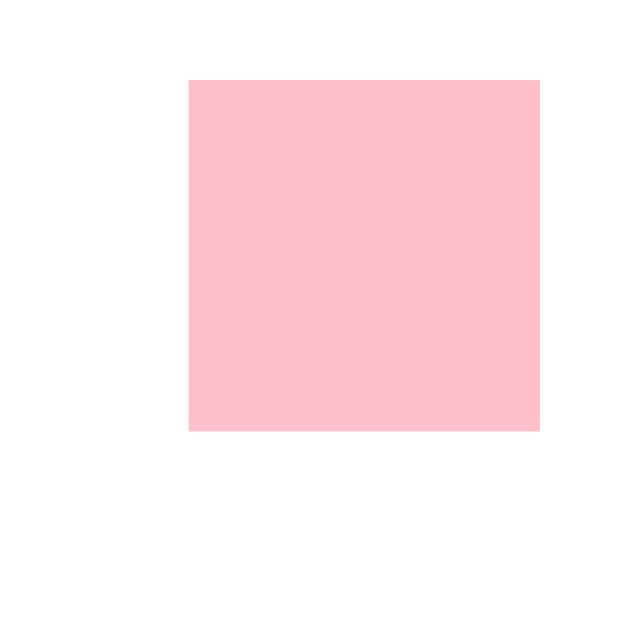square: (130, 36, 559, 474)
